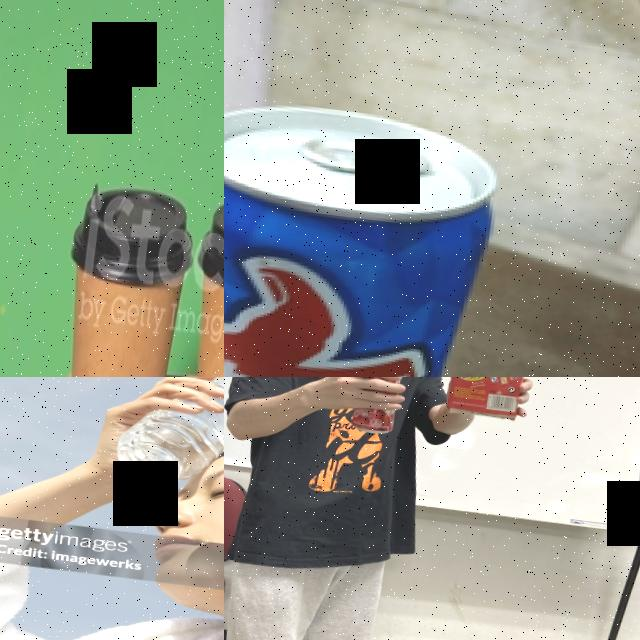bottle: (111, 377, 224, 495)
can: (224, 89, 509, 377), (348, 377, 405, 436)
cup: (46, 175, 200, 377), (169, 186, 224, 377)
